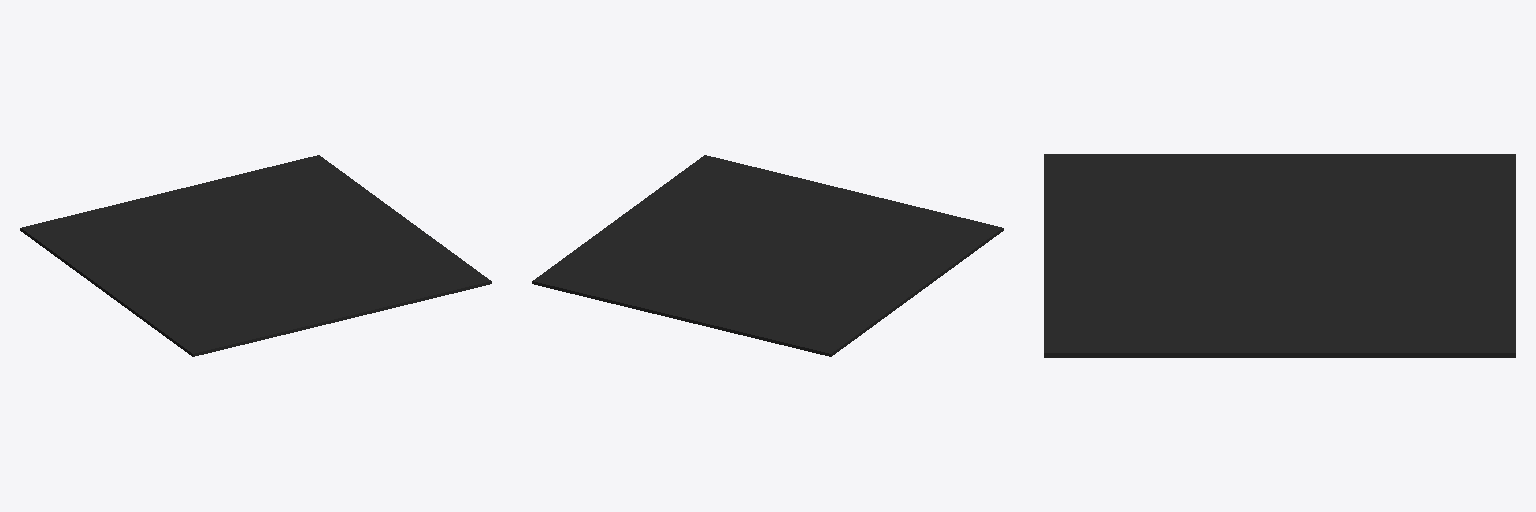
The robot description file, URDF, robot "ground_skeleton":
<?xml version="1.0"?>
<robot name="ground_skeleton">
    <material name="gray">
        <color rgba="0.2 0.2 0.2 0.4"/>
    </material>

    <link name="world" />
    <link name="ground_link">
        <inertial>
            <mass value="1.0" />
            <origin xyz="0 0 0" rpy="0 0 0" />
            <inertia ixx="1.0" ixy="0" ixz="0" iyy="1.0" iyz="0" izz="1.0" />
        </inertial>
        <visual>
            <origin xyz="0 0 0" rpy="0 -0 0" />
            <geometry>
                <box size="5.0 5.0 0.05" />
            </geometry>
            <material name="gray" />
        </visual>
        <collision>
            <origin xyz="0 0 0" rpy="0 -0 0" />
            <geometry>
                <box size="5.0 5.0 0.05" />
            </geometry>
        </collision>
    </link>
    <joint name="ground_joint" type="fixed">
        <origin xyz="0 0 0" rpy="0 0 0" />
        <parent link="world" />
        <child link="ground_link" />
    </joint>
</robot>

--- What the picture shows (computed from the rendered views, not written in the file) ---
3 views of the same robot in one strip: view 1: azimuth 30°, elevation 25°; view 2: azimuth 150°, elevation 25°; view 3: azimuth 270°, elevation 25° (orthographic).
Robot: ground_skeleton — 2 links, 1 joints (1 fixed); root link world; default pose: all joints at 0.
Visible links, largest first — view 1: ground_link; view 2: ground_link; view 3: ground_link.
Link boxes in pixels (<box>): ground_link: <box>20,155,491,356</box>; ground_link: <box>532,155,1003,356</box>; ground_link: <box>1044,154,1515,357</box>.
Bounding box of the posed robot: 5 × 5 × 0.05 m (x, y, z).
Geometry: primitives only (box / cylinder / sphere), no mesh files.
